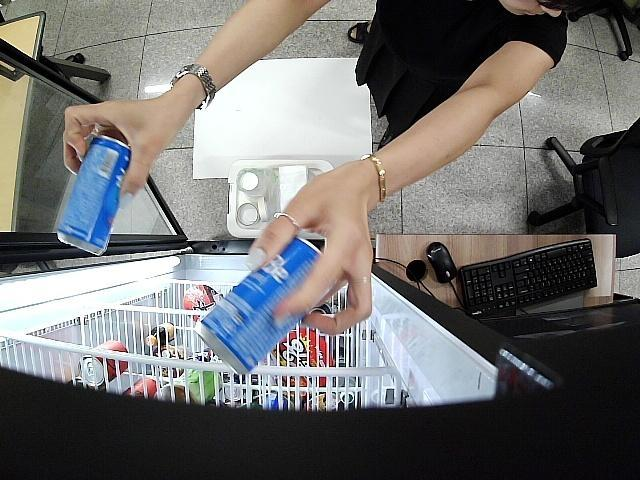15_letsbe: (196, 236, 330, 376), (55, 132, 128, 255)
